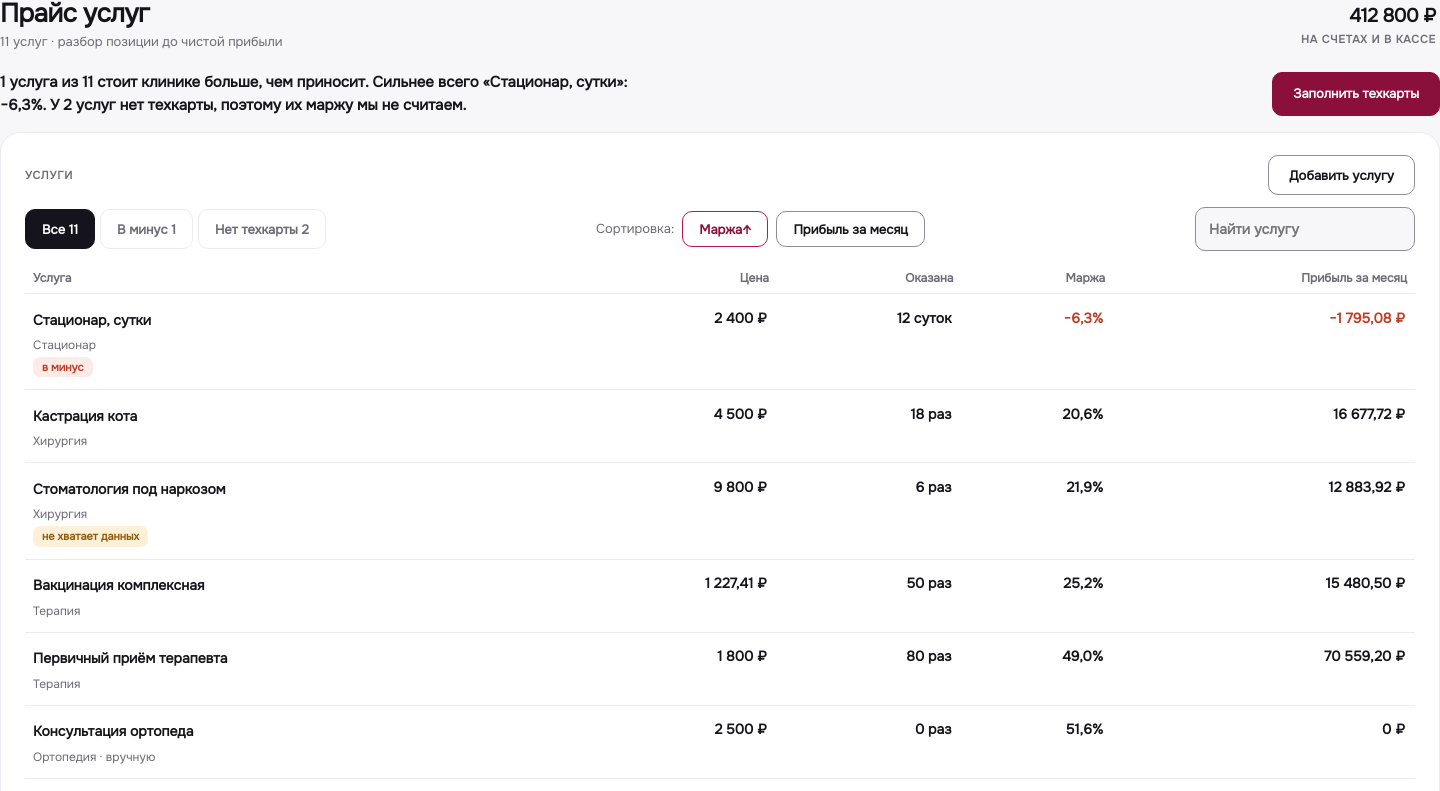
Scenario: PricePage: the list › filters the list on the server and writes the filter into the address
Click the radio button with test id "price-filter-loss".
click(146, 229)  # box top-left (100, 209), bottom-right (193, 249)
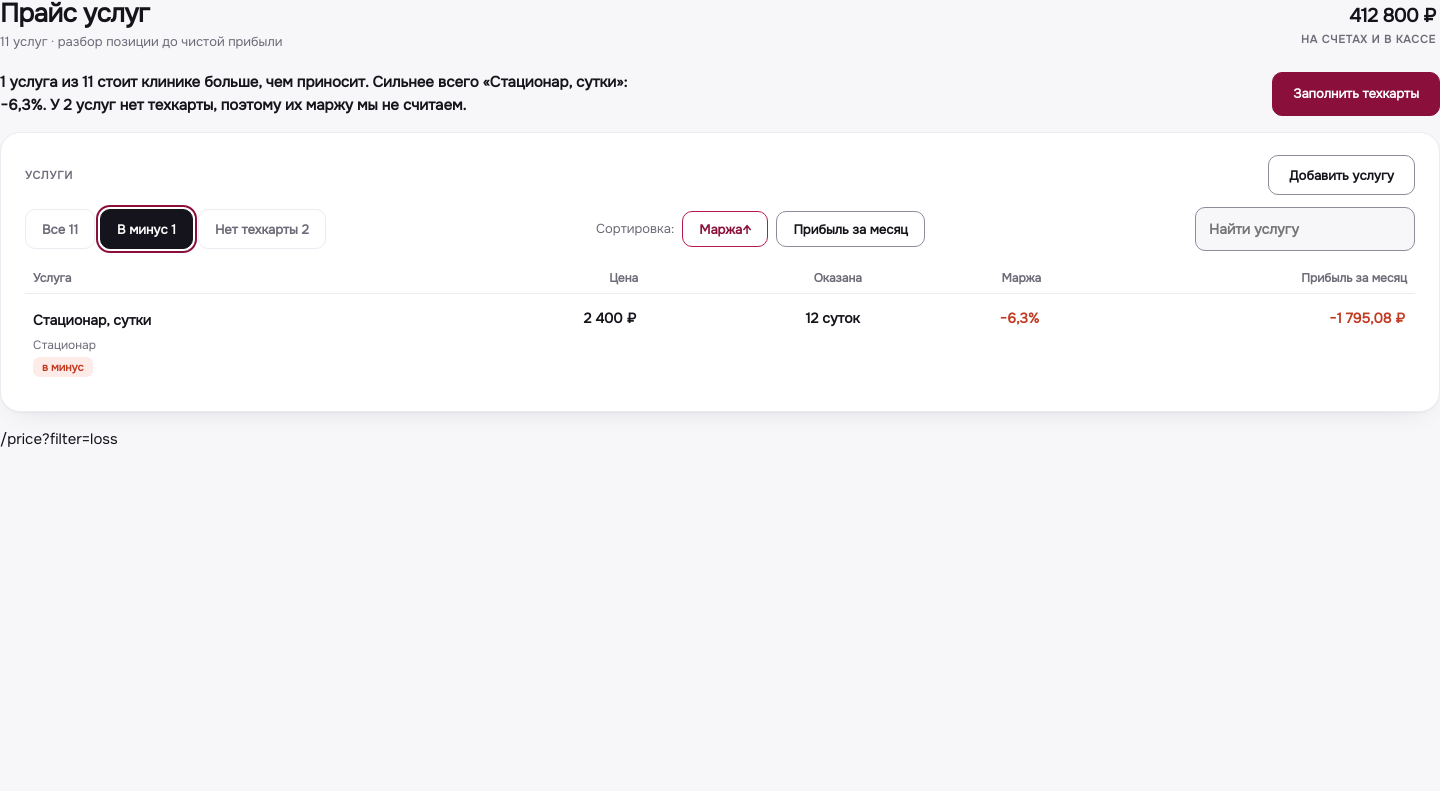
Now the number of rows with test id "price-row" is 1, box top-left (25, 294), bottom-right (1415, 389)
Now the text with test id "location" shows "filter=loss", box top-left (0, 429), bottom-right (118, 449)
